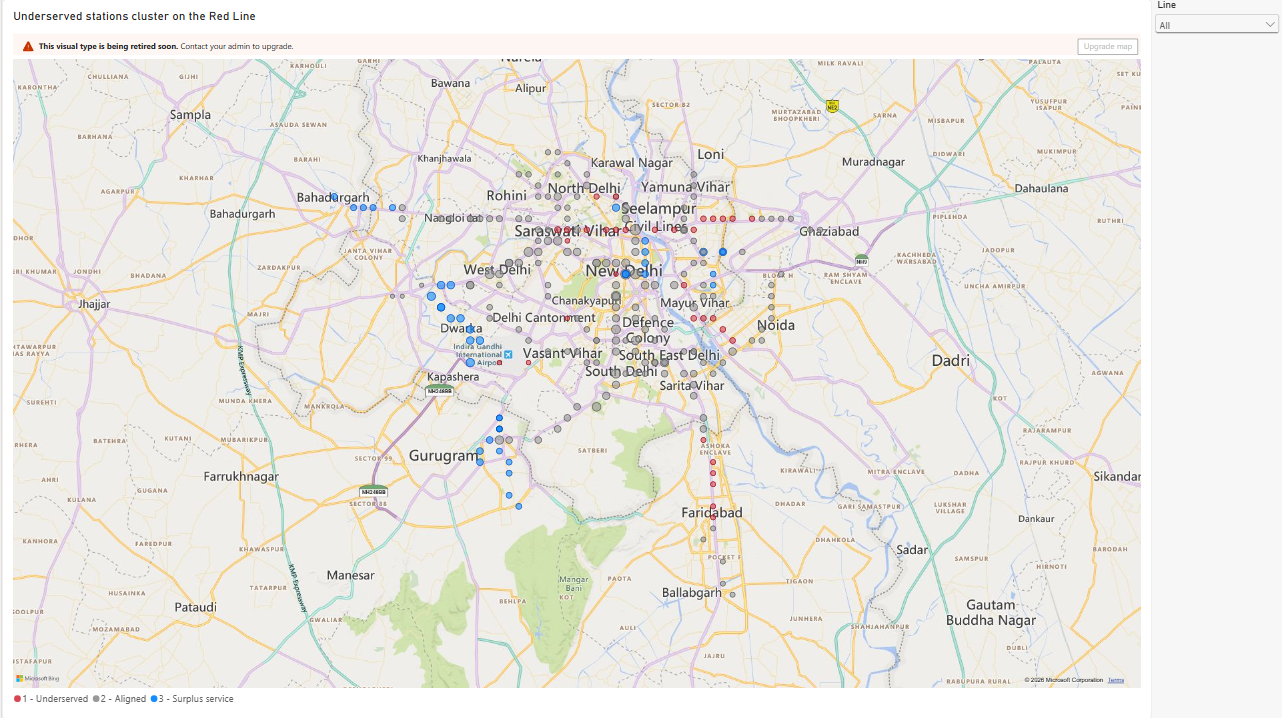

What the dashboard file says about the page in this screenshot:
{"tool":"powerbi","page":{"name":"Page 1","canvas":[1920,1080],"ordinal":0},"visuals":[{"type":"map","title":"Underserved stations cluster on the Red Line","fields":{"Category":["dashboard.stop_name"],"Series":["dashboard.service_level"],"Size":["Sum(dashboard.peak_tph)"],"X":["Avg(dashboard.lon)"],"Y":["Avg(dashboard.lat)"]},"box":[0,0,1724,1080],"z":0},{"type":"slicer","fields":{"Values":["dashboard.line"]},"box":[1724,0,195.5,58.2],"z":1}]}

Visuals, with their boxes in screenshot pixels (x1, y1, x2, y2), scaled from the page's 1920x1080 canvas onto the 1282x718 screenshot:
"Underserved stations cluster on the Red Line" map: 0 0 1151 717
slicer - dashboard.line: 1151 0 1281 39
